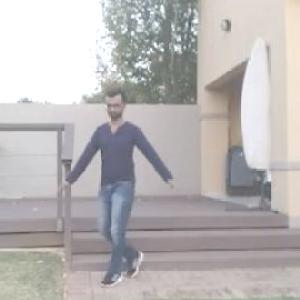land: (66, 97, 183, 290)
